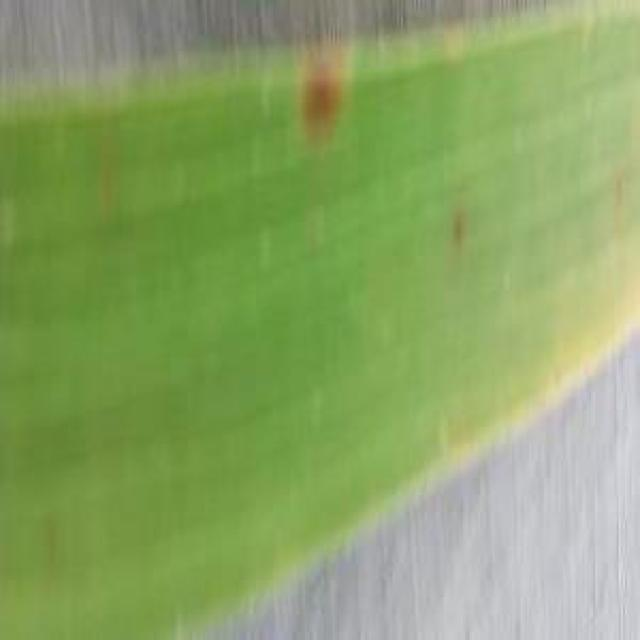Brown_Spot: (280, 63, 372, 147)
